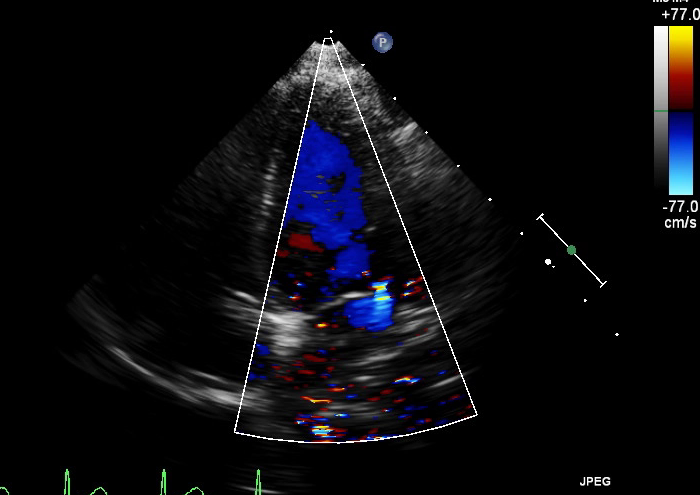MR: (311, 281, 396, 331)
